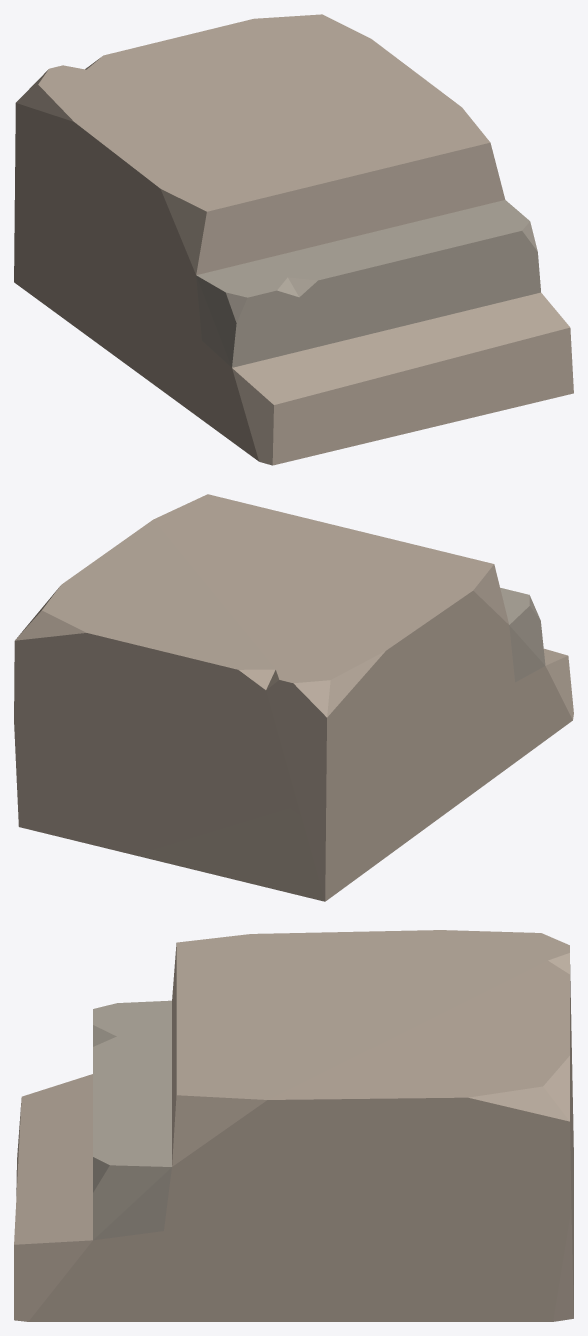
Rendered from SM_Bld_Village_Stairs_01.glb.
3 renders of one model, top to bottom at view 1: azimuth 30°, elevation 25°; view 2: azimuth 150°, elevation 25°; view 3: azimuth 270°, elevation 25°, orthographic. The views are drawn at different scales.
Parts seen in each view (by area): view 1: SM_Bld_Village_Stairs_01; view 2: SM_Bld_Village_Stairs_01; view 3: SM_Bld_Village_Stairs_01.
Boxes of the visible parts, x1,y1,x2,y2 form: SM_Bld_Village_Stairs_01: (14, 14, 573, 465); SM_Bld_Village_Stairs_01: (14, 494, 573, 901); SM_Bld_Village_Stairs_01: (14, 930, 573, 1321).
Bounding box in the file's own units: 1.32 × 0.8463 × 1.88.
Materials: 1 (1 with a texture image).
